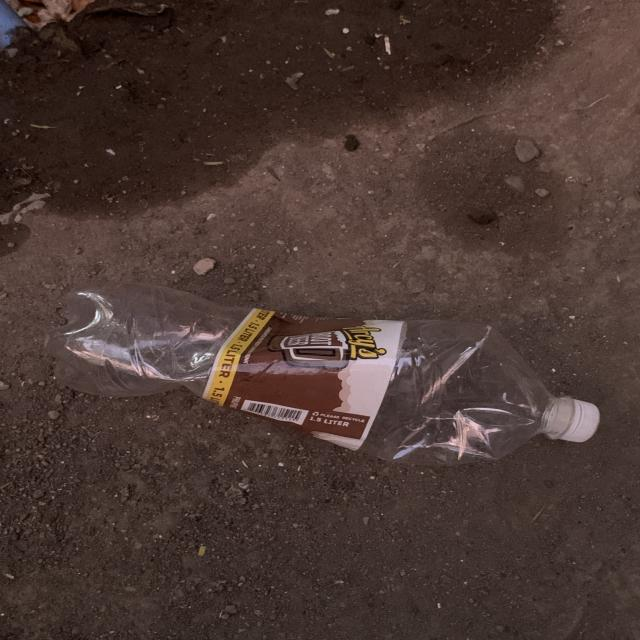Bottle: (46, 283, 600, 465)
